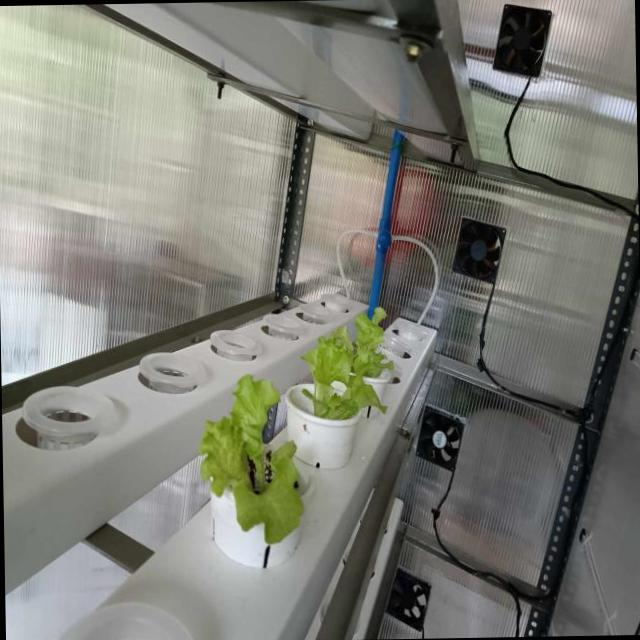Lettuce-Not-Ready-to-Harvest: (197, 374, 304, 545), (300, 326, 388, 420), (353, 307, 393, 378)
